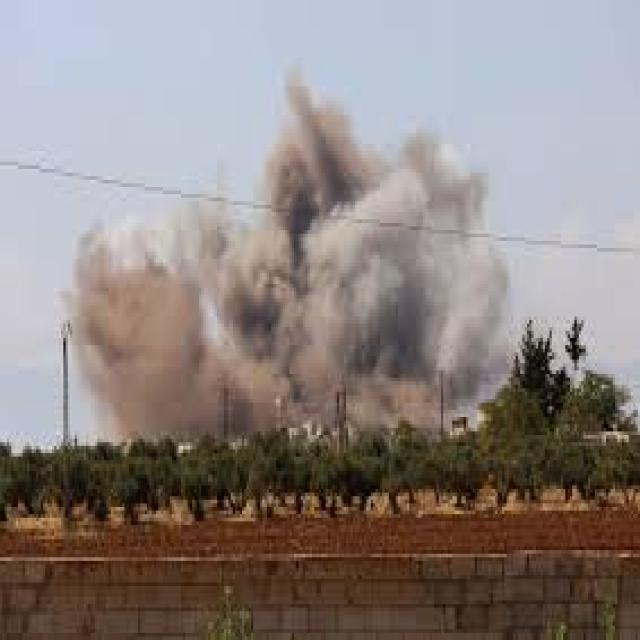Smoke: (64, 64, 517, 439)
